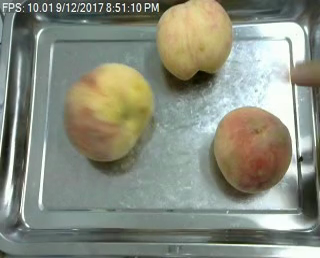Peach: (64, 62, 153, 163), (212, 104, 293, 191), (156, 0, 234, 80)
